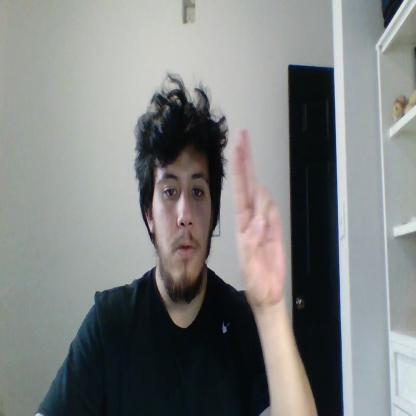U: (232, 127, 285, 306)
